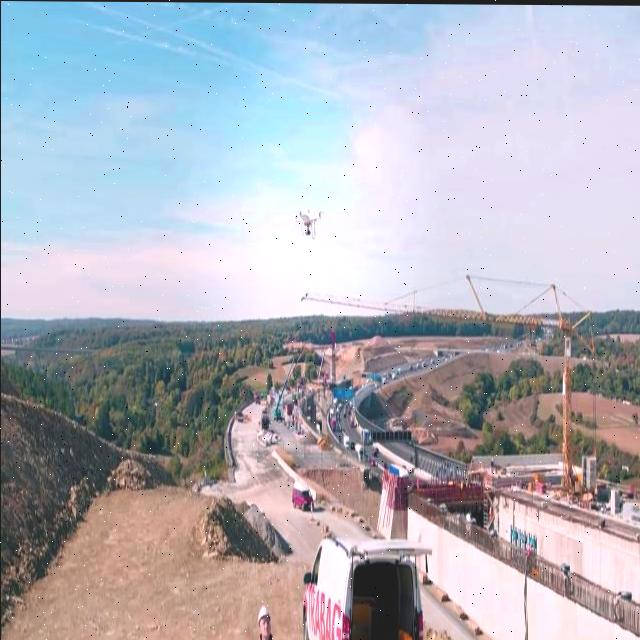drone: (290, 202, 324, 240)
